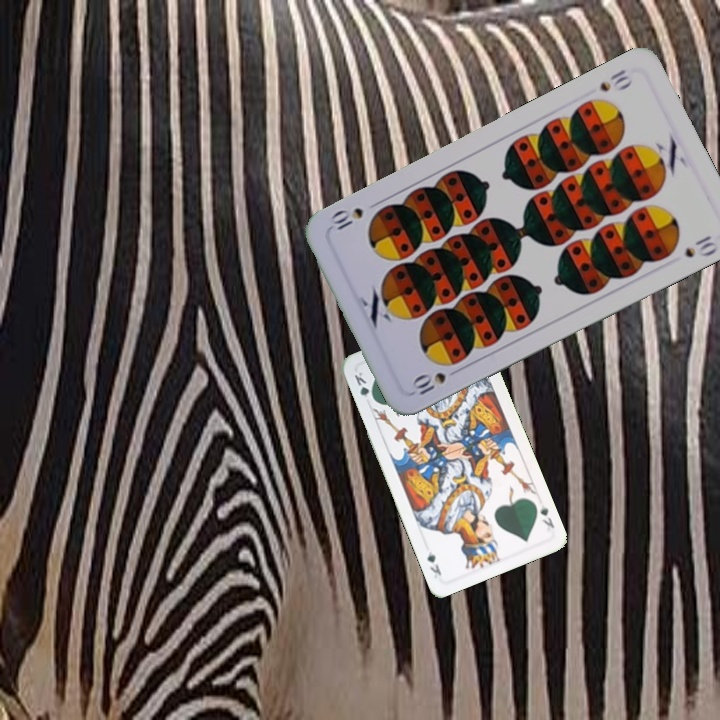GK: (350, 368, 377, 404), (536, 500, 557, 531)
S10: (408, 364, 464, 398), (595, 65, 636, 95)
